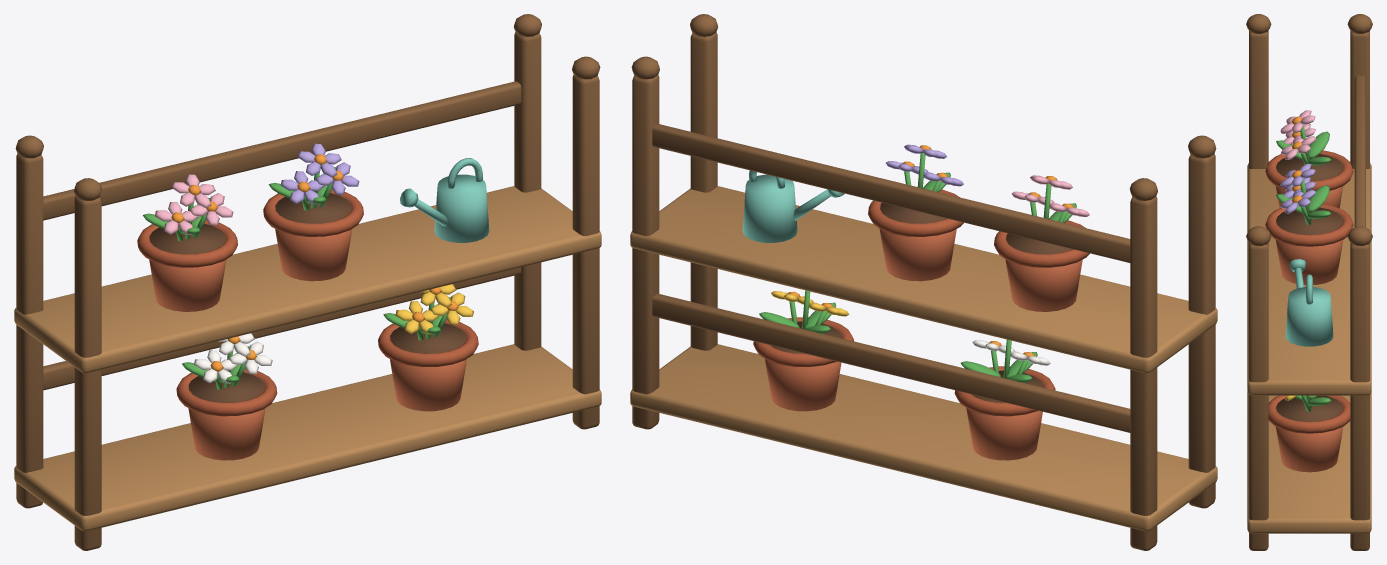
The model's file is flower-shelf.glb.
3 views of the same model, side by side, from view 1: azimuth 30°, elevation 25°; view 2: azimuth 150°, elevation 25°; view 3: azimuth 270°, elevation 25° (orthographic). The views are drawn at different scales.
Visible parts, largest first — view 1: shelf, flowers; view 2: shelf, flowers; view 3: shelf, flowers.
Boxes of the visible parts, x1,y1,x2,y2 form: shelf: (14,14,601,550); flowers: (137,143,489,460); shelf: (630,14,1217,550); flowers: (742,144,1089,460); shelf: (1246,14,1372,550); flowers: (1265,110,1353,472).
Size of the model in its own units: 1.87 by 1.25 by 0.45.
